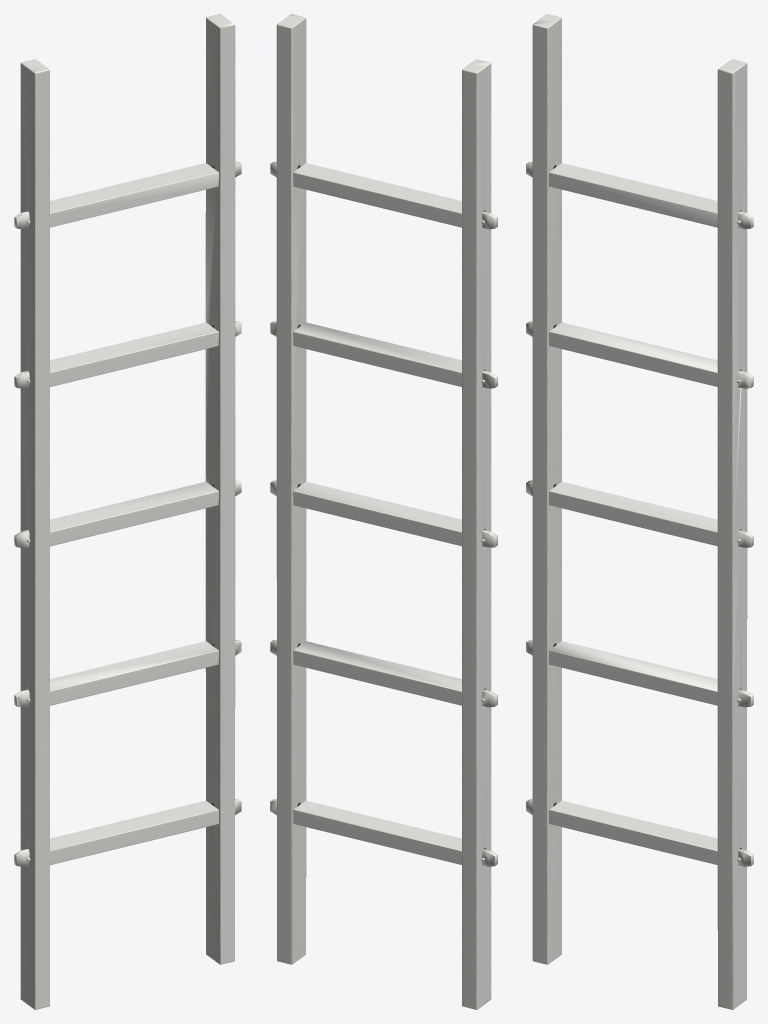
File: B078JJG79V.glb
3 views of the same model, side by side, from view 1: azimuth 30°, elevation 25°; view 2: azimuth 150°, elevation 25°; view 3: azimuth 330°, elevation 25° (orthographic).
Parts seen in each view (by area): view 1: RootNode; view 2: RootNode; view 3: RootNode.
Boxes of the visible parts, <box> form: RootNode: <box>14,14,241,1009</box>; RootNode: <box>270,14,497,1009</box>; RootNode: <box>526,14,753,1009</box>.
Bounding box in the file's own units: 0.452 × 1.8 × 0.0513.
Materials: 1 (1 with a texture image).
